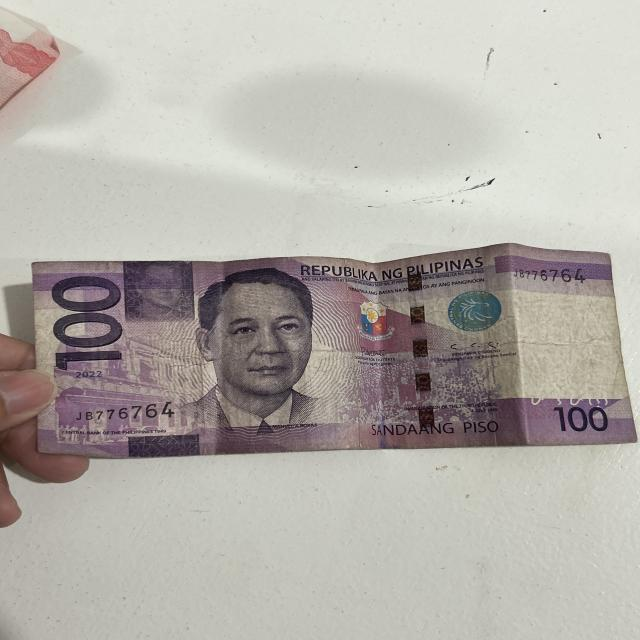concealed_value: (120, 262, 197, 321)
security_thread: (405, 259, 435, 441)
see_through_mark: (517, 387, 618, 413)
serial_number: (73, 401, 183, 428), (502, 263, 594, 294)
value: (40, 268, 122, 372)
